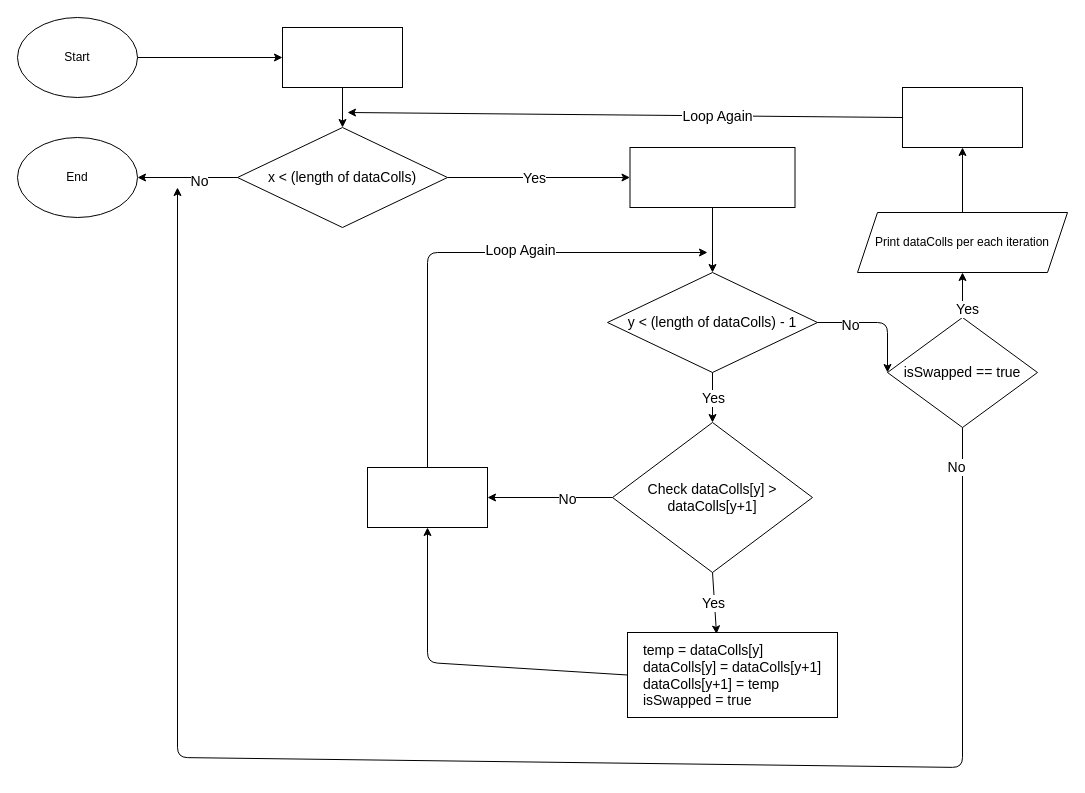
The diagram is 1085 pixels wide and 793 high, and some of its shapes have lost their labels. Here are the shapes that lost their labels. From the top down, the centre of each, then its label:
the point at 342,57: x = 0
the point at 962,117: x = x + 1
the point at 712,177: isSwapped = false y = 0
the point at 427,497: y = y + 1
